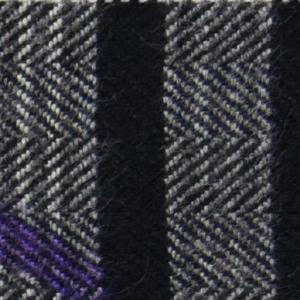Stain: (1, 204, 111, 300)
